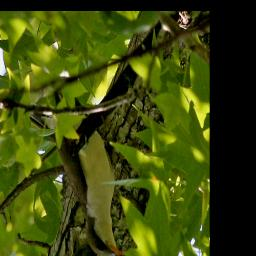Cuckoo: (29, 90, 129, 256)
